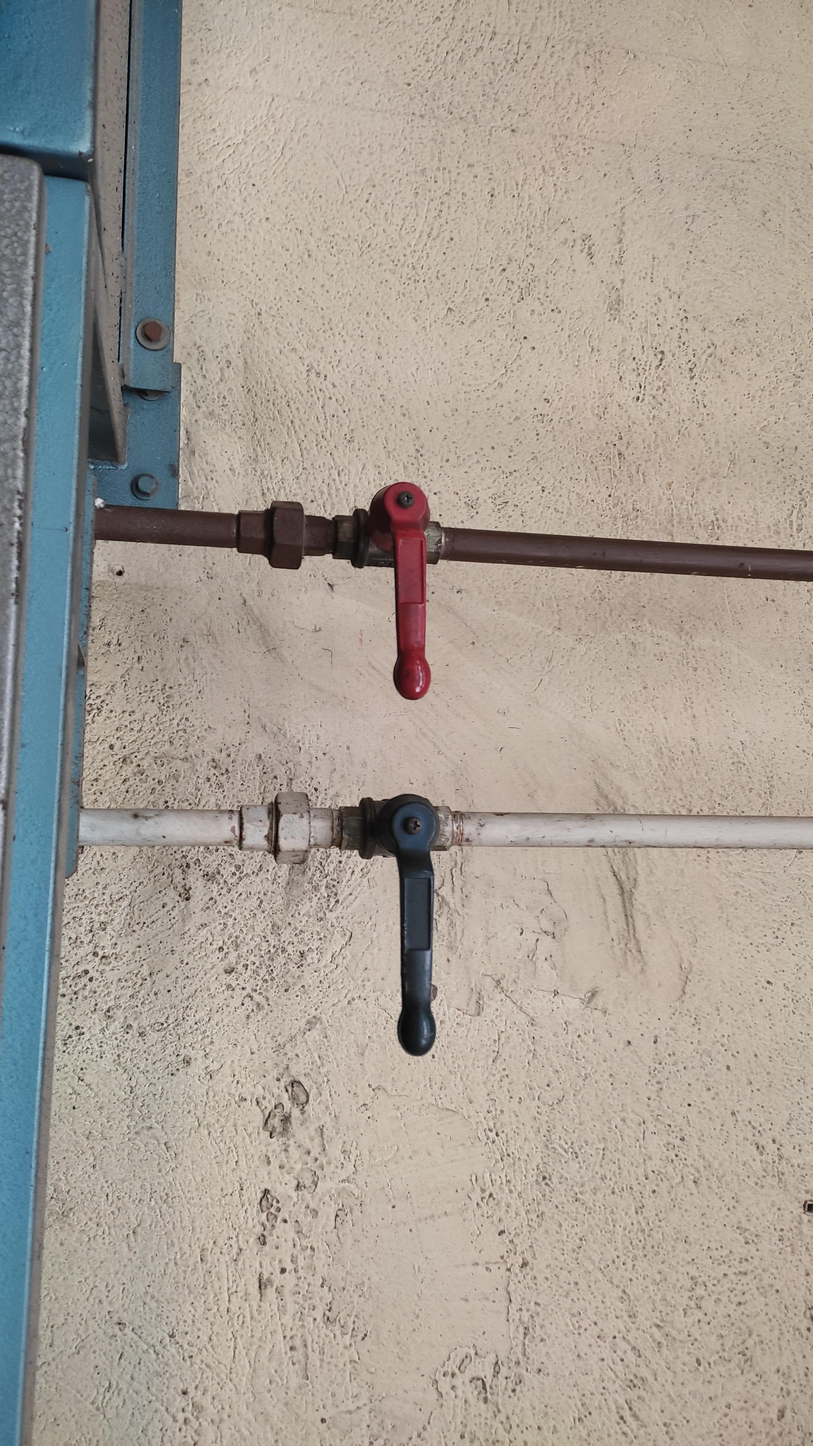closed valve: (356, 789, 452, 1058), (347, 474, 445, 702)
